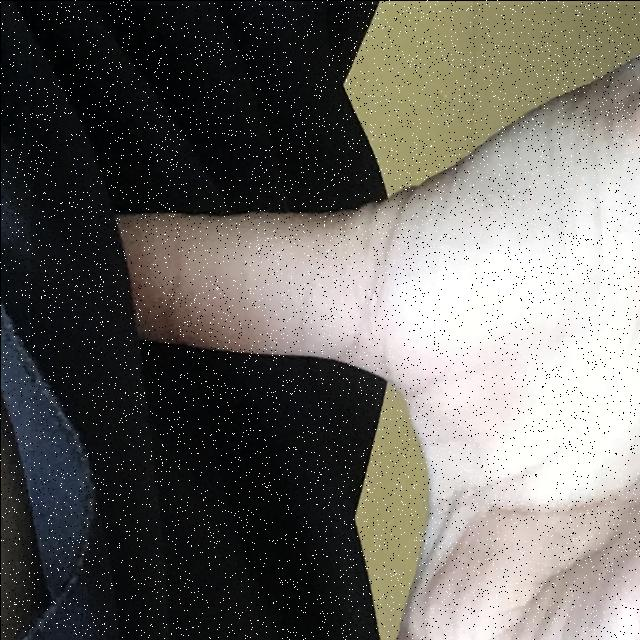mendengar: (30, 4, 640, 640)
